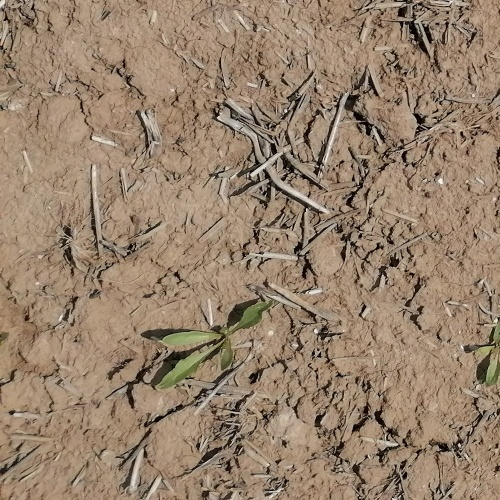beet: (155, 298, 273, 388), (470, 319, 500, 386)
